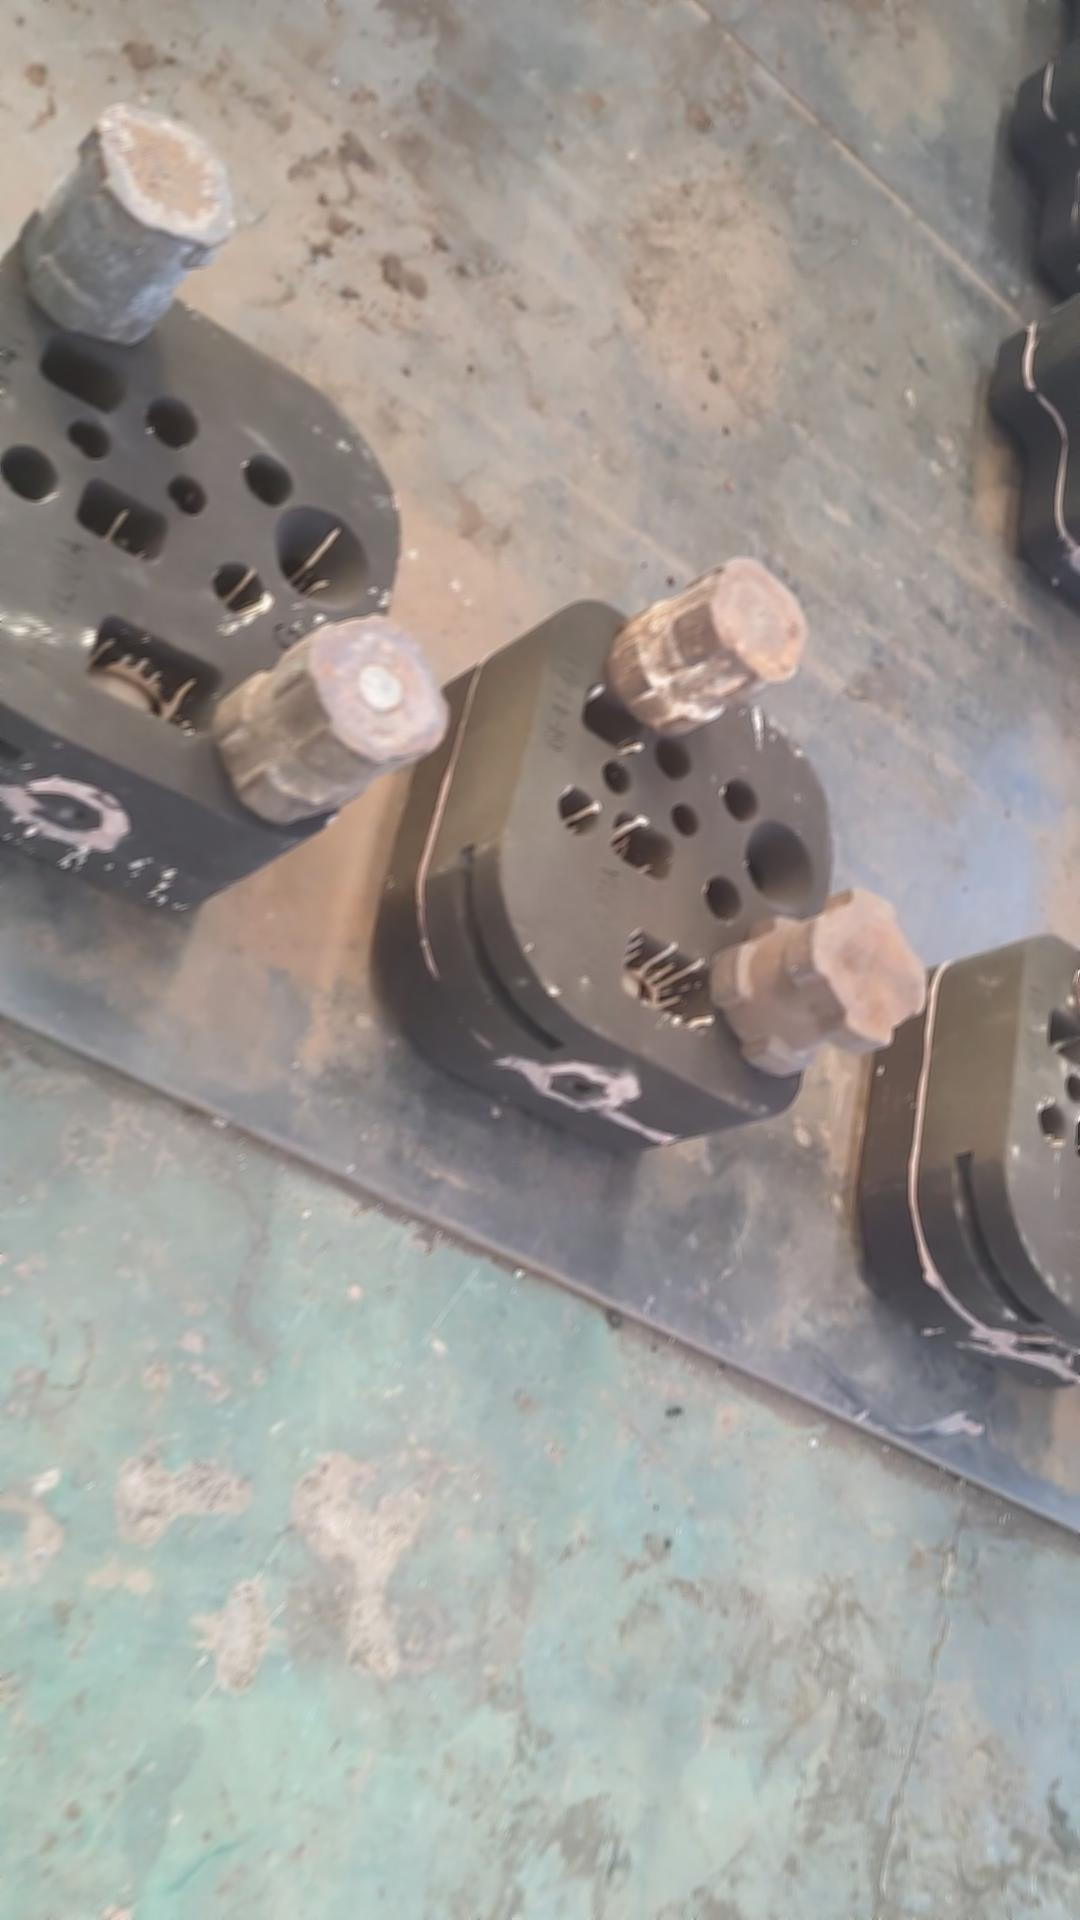pouring hole: (272, 502, 371, 608), (742, 819, 818, 911)
